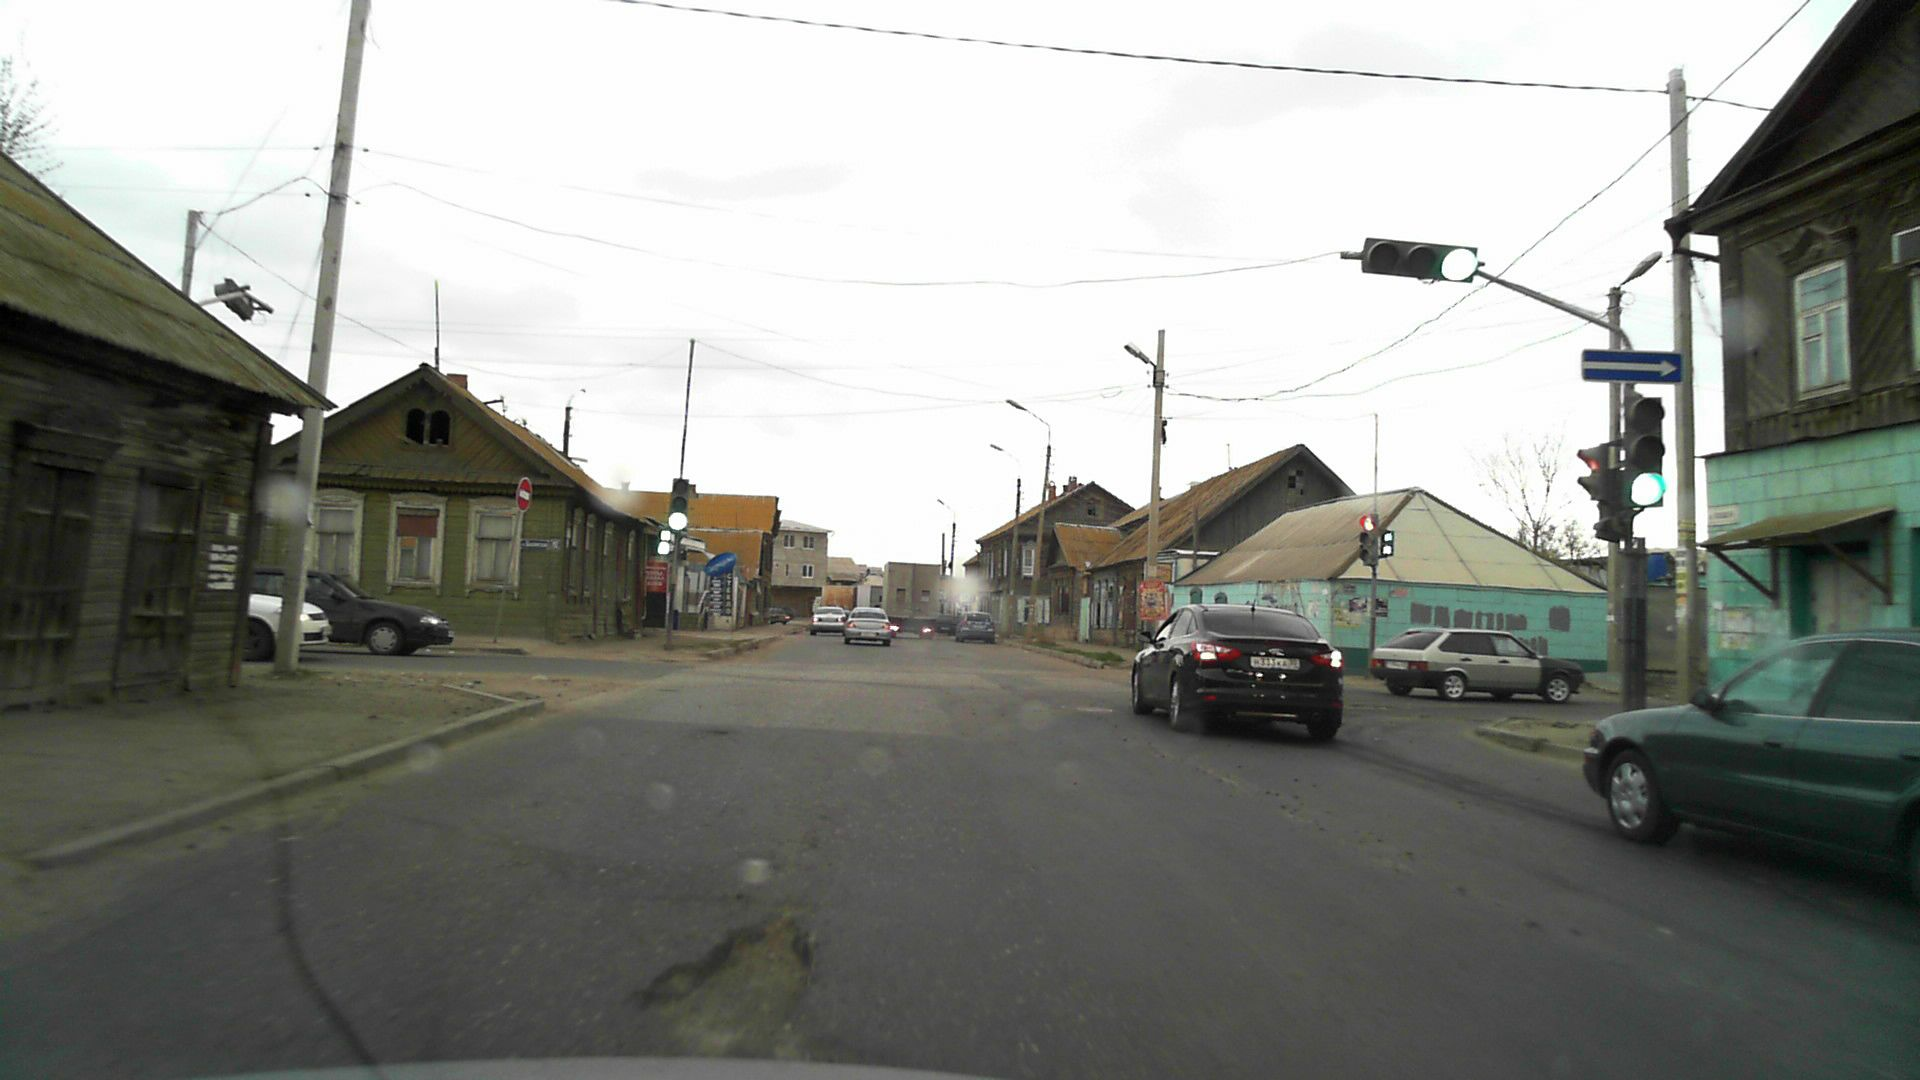One-Way Traffic: (1581, 349, 1683, 381)
